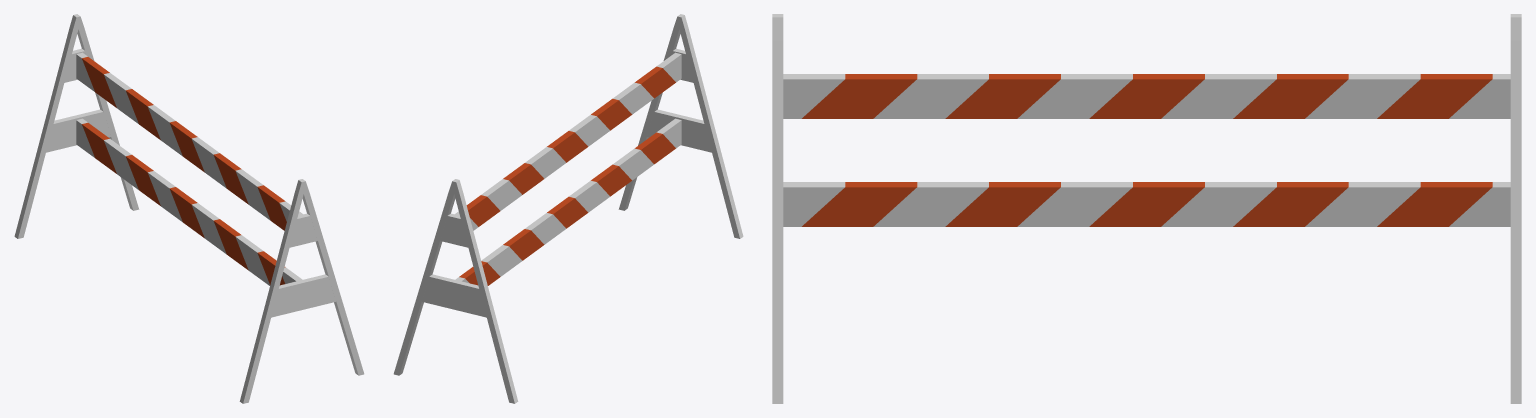
The model's file is traffic_warning_stand.fbx.
3 renders of one model, left to right at view 1: azimuth 30°, elevation 25°; view 2: azimuth 150°, elevation 25°; view 3: azimuth 270°, elevation 25°, orthographic. The views are drawn at different scales.
Visible parts, largest first — view 1: traffic warning stand; view 2: traffic warning stand; view 3: traffic warning stand.
Part boxes in pixels (box(x1,y1,x2,y2)): traffic warning stand: box(14, 14, 364, 403); traffic warning stand: box(393, 14, 743, 403); traffic warning stand: box(772, 14, 1521, 403).
Bounding box in the file's own units: 37.59 × 61.33 × 123.
1 material, 1 textured.
